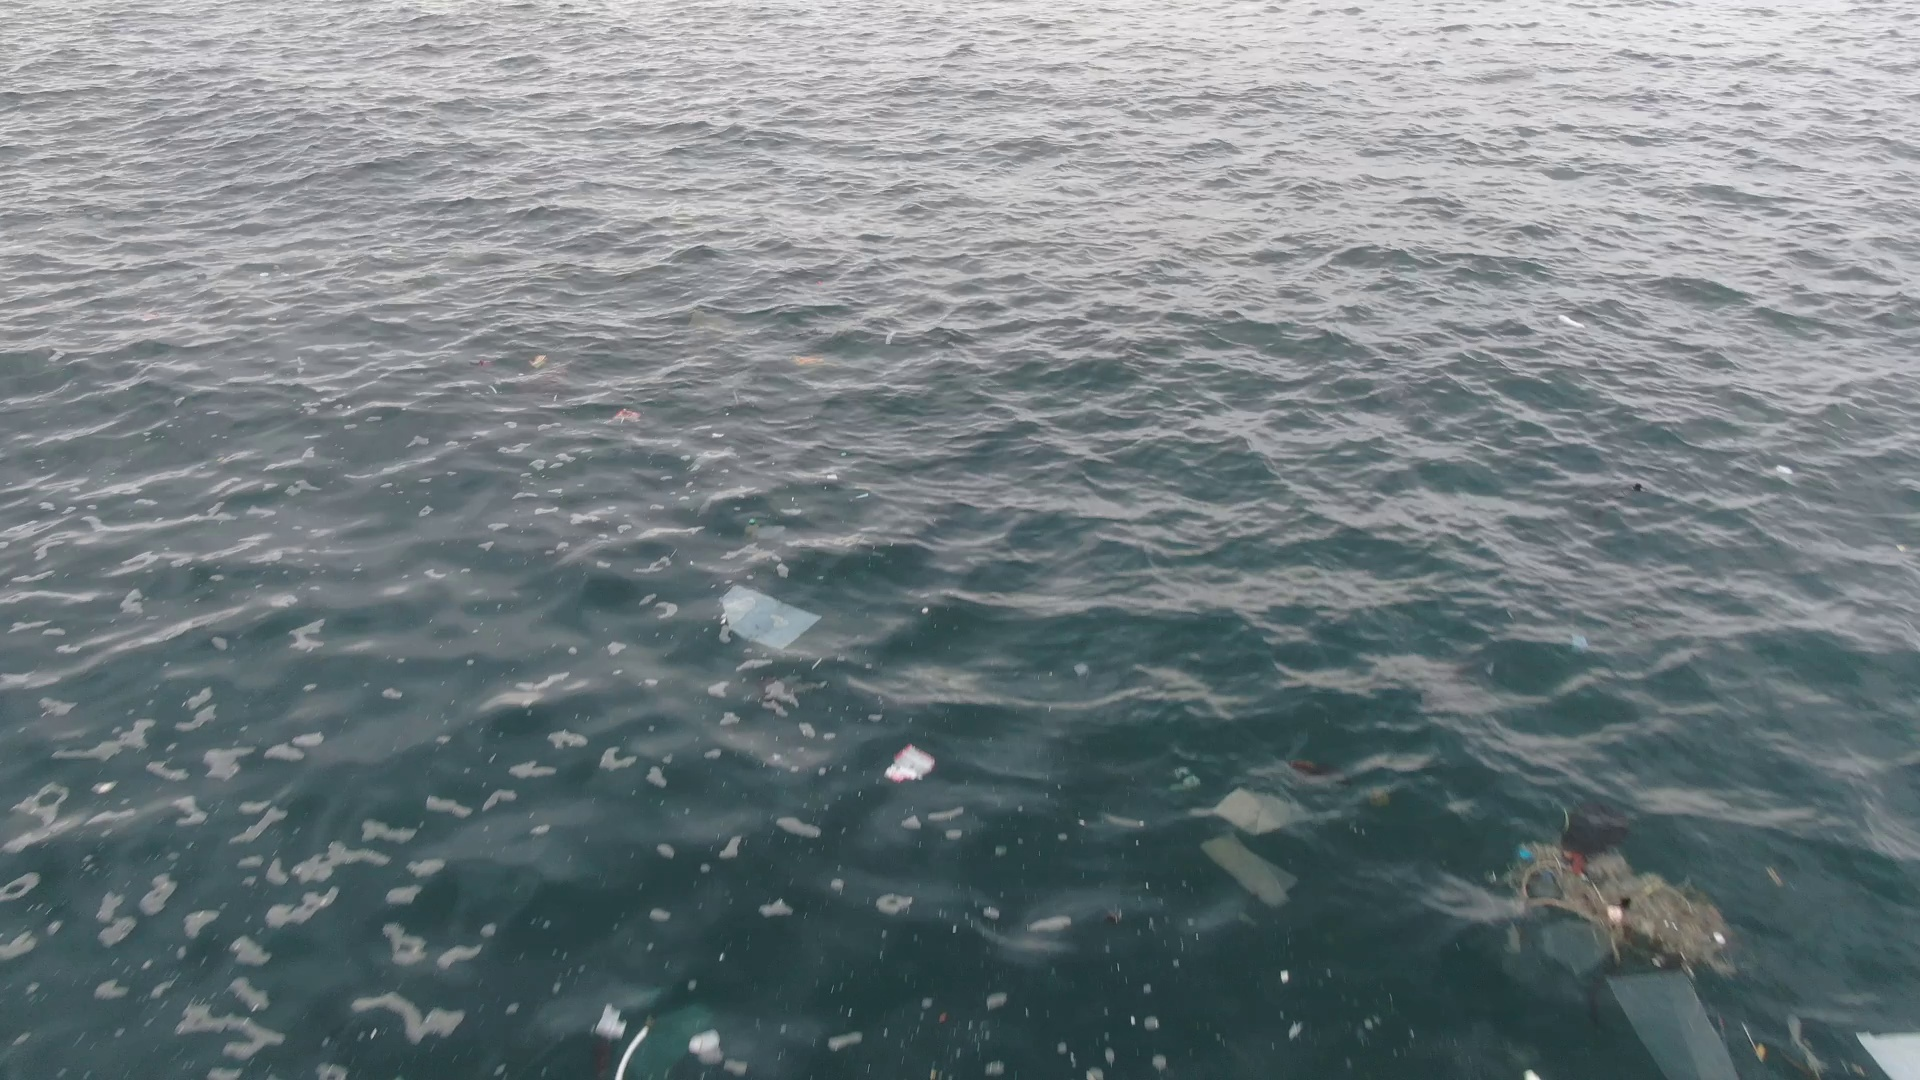garbage: (1494, 806, 1756, 1080), (1188, 760, 1385, 913), (579, 993, 731, 1080), (711, 588, 823, 654), (887, 744, 938, 787), (613, 407, 644, 425), (1559, 313, 1586, 331), (794, 351, 825, 367), (527, 353, 549, 369), (1774, 463, 1793, 475), (480, 360, 495, 369)
